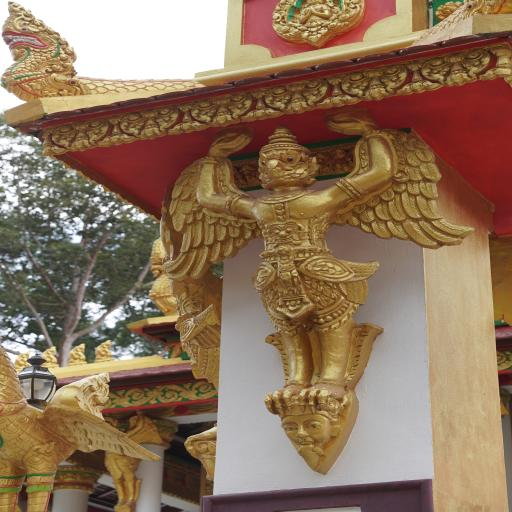ran: (0, 0, 125, 105)
than: (136, 125, 471, 467), (128, 228, 227, 474), (73, 411, 188, 512)
